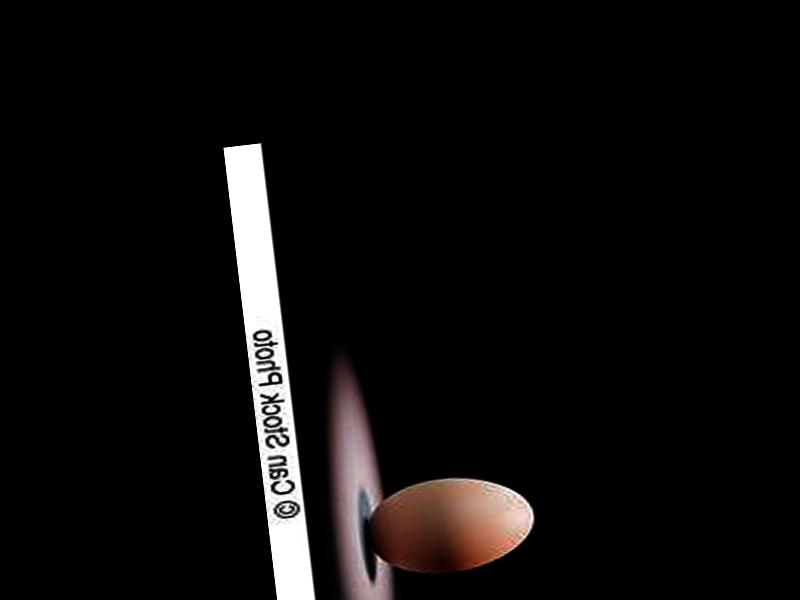Eggs: (360, 468, 539, 584)
